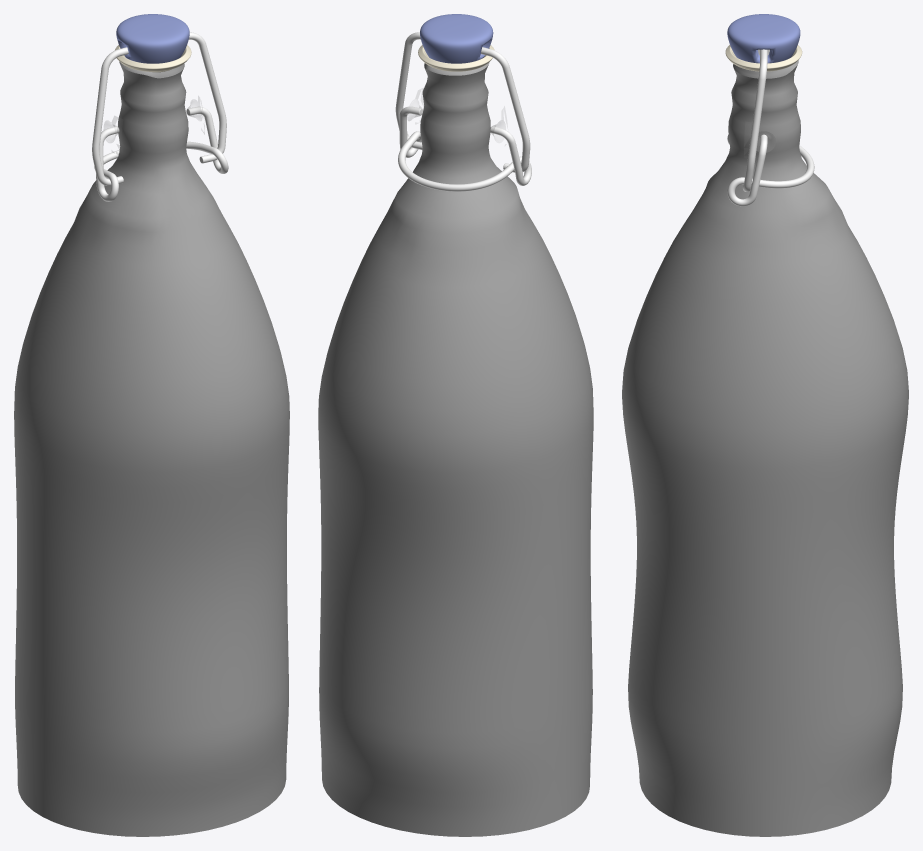
File: LiquidBottle.fbx
The picture shows the model from 3 angles, left to right: view 1: azimuth 30°, elevation 25°; view 2: azimuth 150°, elevation 25°; view 3: azimuth 270°, elevation 25°; orthographic projection.
Visible parts, largest first — view 1: Exterior; view 2: Exterior; view 3: Exterior.
Boxes of the visible parts, x1,y1,x2,y2 form: Exterior: (14, 14, 289, 836); Exterior: (318, 14, 593, 836); Exterior: (622, 14, 908, 836).
Bounding box in the file's own units: 1.2 × 3.66 × 1.26.
